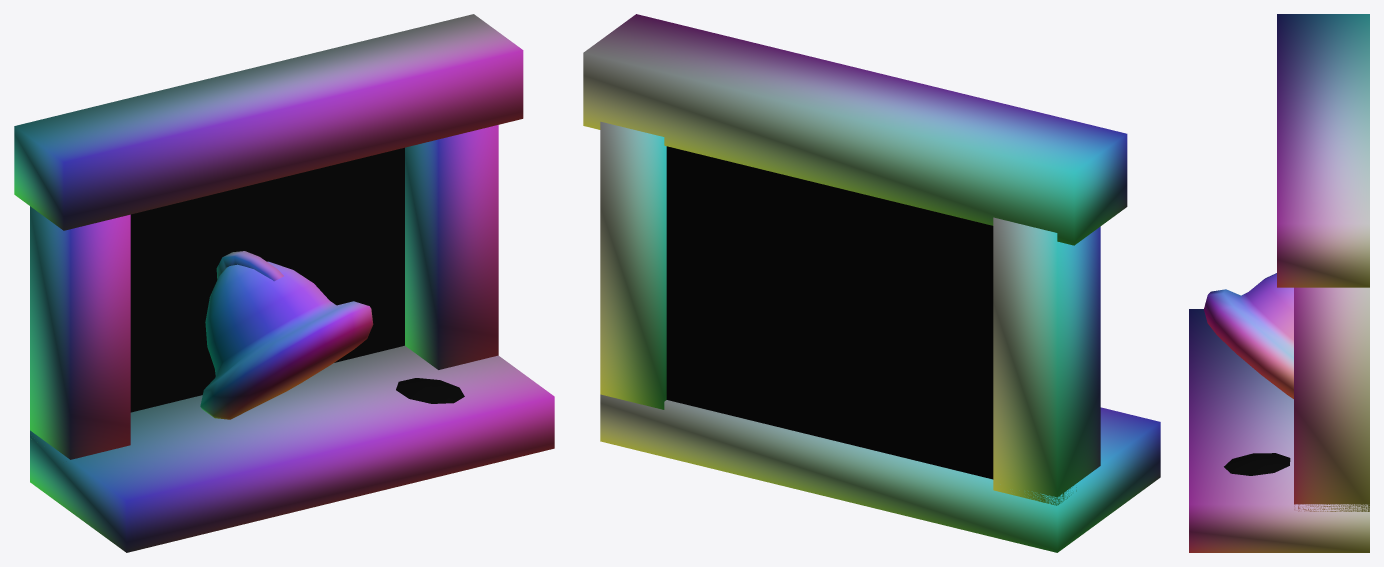
The model's file is SM_Pit_HelmNiche_A.fbx.
3 views of the same model, side by side, from view 1: azimuth 30°, elevation 25°; view 2: azimuth 150°, elevation 25°; view 3: azimuth 270°, elevation 25° (orthographic). The views are drawn at different scales.
Visible parts, largest first — view 1: SM_Pit_HelmNiche_A; view 2: SM_Pit_HelmNiche_A; view 3: SM_Pit_HelmNiche_A.
Boxes of the visible parts, box(x1,y1,x2,y2) form: SM_Pit_HelmNiche_A: box(14, 14, 554, 552); SM_Pit_HelmNiche_A: box(583, 14, 1160, 552); SM_Pit_HelmNiche_A: box(1189, 14, 1369, 552).
Bounding box in the file's own units: 0.8744 × 0.6544 × 0.3184.
